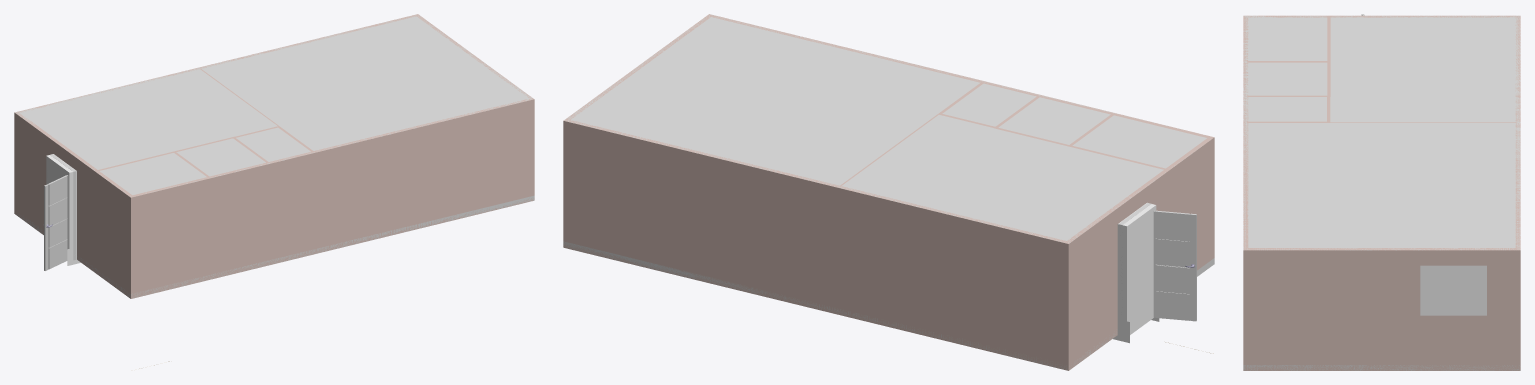
3 views of the same model, side by side, from view 1: azimuth 30°, elevation 25°; view 2: azimuth 150°, elevation 25°; view 3: azimuth 270°, elevation 25° (orthographic). The views are drawn at different scales.
Visible parts, largest first — view 1: Room, Ceiling, Door, Baseboard, CTRL_Hole, DoorFrame; view 2: Room, Ceiling, Door, CTRL_Hole, Baseboard; view 3: Ceiling, Room, CTRL_Hole.001, Baseboard, Room.001, Room.002, Room.003.
Boxes of the visible parts, x1,y1,x2,y2 form: Room: (14,14,534,298); Ceiling: (15,14,532,196); Door: (44,175,68,270); Baseboard: (15,195,534,298); CTRL_Hole: (46,154,76,261); DoorFrame: (50,154,76,260); Room: (563,14,1214,370); Ceiling: (565,14,1206,243); Door: (1153,210,1196,321); CTRL_Hole: (1117,203,1156,336); Baseboard: (563,241,1214,370); Ceiling: (1243,15,1520,250); Room: (1243,15,1520,370); CTRL_Hole.001: (1420,265,1486,315); Baseboard: (1243,365,1520,370); Room.001: (1247,15,1330,62); Room.002: (1247,62,1330,96); Room.003: (1247,97,1330,122).
Size of the model in its own units: 1090 by 410 by 500.
